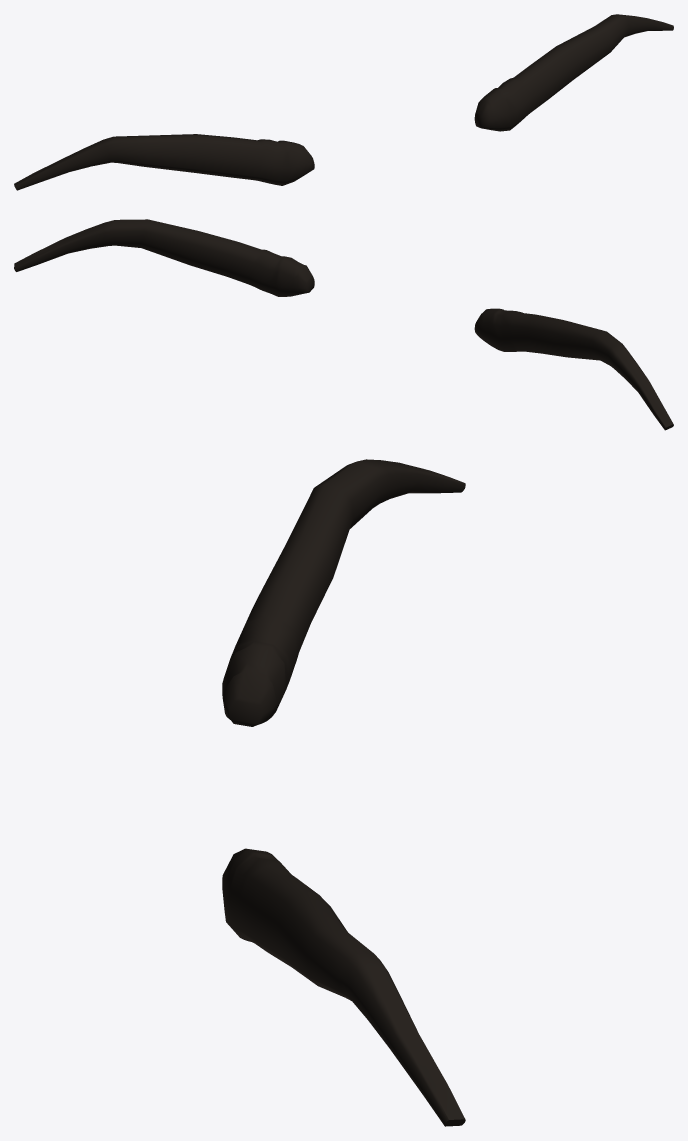
The model's file is Eyebrows_10_01.fbx.
3 renders of one model, top to bottom at view 1: azimuth 30°, elevation 25°; view 2: azimuth 150°, elevation 25°; view 3: azimuth 270°, elevation 25°, orthographic. The views are drawn at different scales.
Visible parts, largest first — view 1: Eyebrows_10_01; view 2: Eyebrows_10_01; view 3: Eyebrows_10_01.
Part boxes in pixels (x1,y1,x2,y2): Eyebrows_10_01: (14, 14, 673, 190); Eyebrows_10_01: (14, 219, 673, 430); Eyebrows_10_01: (222, 459, 465, 1126).
Bounding box in the file's own units: 19.53 × 1.75 × 3.13.
